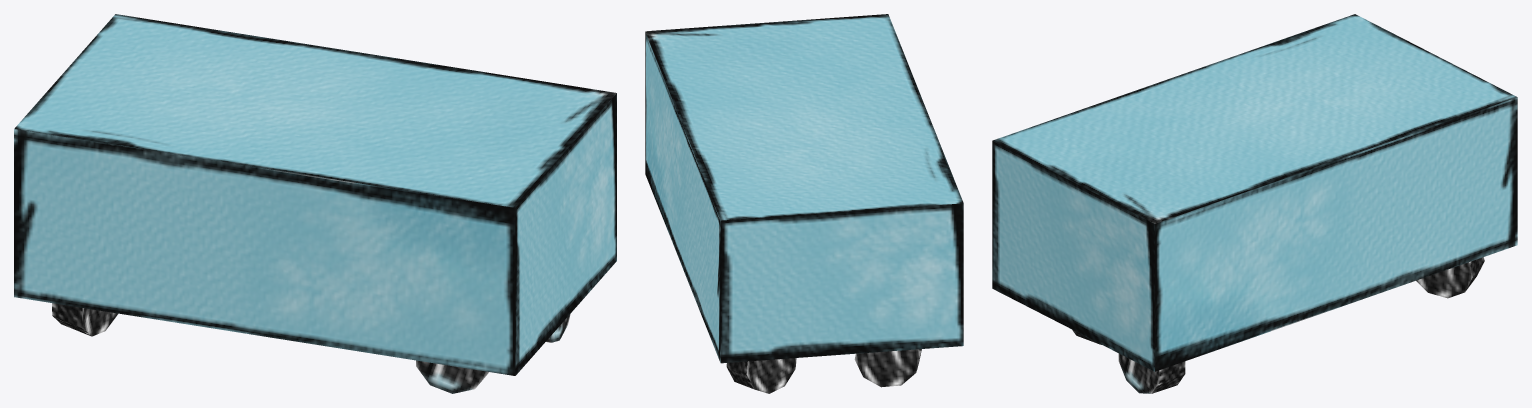
File: furniture_tv_table.glb
3 views of the same model, side by side, from view 1: azimuth 30°, elevation 25°; view 2: azimuth 150°, elevation 25°; view 3: azimuth 270°, elevation 25° (orthographic). The views are drawn at different scales.
Visible parts, largest first — view 1: table_tv; view 2: table_tv; view 3: table_tv.
Boxes of the visible parts, x1=… form: table_tv: x1=14, y1=14, x2=616, y2=393; table_tv: x1=645, y1=14, x2=963, y2=393; table_tv: x1=992, y1=14, x2=1517, y2=393.
Bounding box in the file's own units: 0.0597 × 0.0263 × 0.0632.
1 material, 1 textured.
